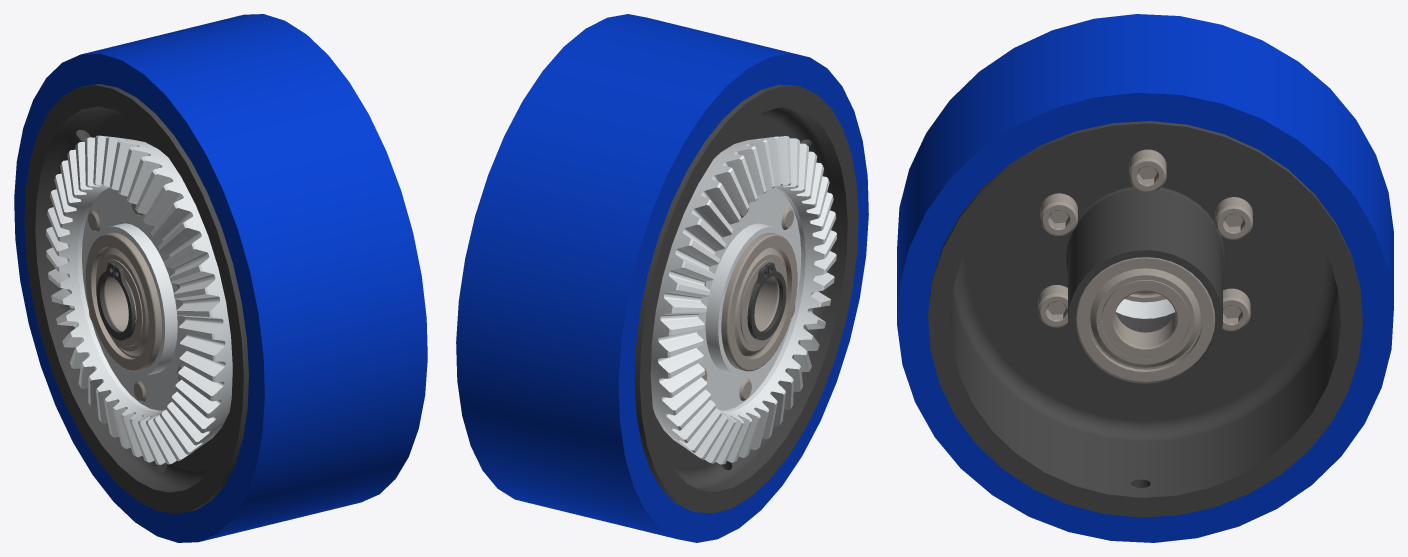
3 views of the same model, side by side, from view 1: azimuth 30°, elevation 25°; view 2: azimuth 150°, elevation 25°; view 3: azimuth 270°, elevation 25° (orthographic).
Parts seen in each view (by area): view 1: WCP-0364-008 Rev1, WCP-0233 Rev1, WCP-0365 Rev1, 217-3109_0_500_radial_bearing (×2), WCP-0229 Rev1; view 2: WCP-0364-008 Rev1, WCP-0233 Rev1, WCP-0365 Rev1, 217-3109_0_500_radial_bearing (×2), WCP-0229 Rev1; view 3: WCP-0365 Rev1, WCP-0364-008 Rev1, 217-3109_0_500_radial_bearing (×2), 10-32 SHCS - No Thread_0.375 (×5), WCP-0233 Rev1.
Part boxes in pixels (box(x1,y1,x2,y2)): WCP-0364-008 Rev1: box(14, 14, 427, 542); WCP-0233 Rev1: box(46, 135, 232, 464); WCP-0365 Rev1: box(24, 84, 248, 514); 217-3109_0_500_radial_bearing (×2): box(85, 232, 161, 371); WCP-0229 Rev1: box(96, 262, 135, 340); WCP-0364-008 Rev1: box(456, 14, 868, 542); WCP-0233 Rev1: box(650, 136, 836, 464); WCP-0365 Rev1: box(634, 84, 858, 513); 217-3109_0_500_radial_bearing (×2): box(721, 232, 797, 371); WCP-0229 Rev1: box(747, 262, 786, 340); WCP-0365 Rev1: box(928, 121, 1362, 517); WCP-0364-008 Rev1: box(897, 14, 1393, 542); 217-3109_0_500_radial_bearing (×2): box(1075, 257, 1215, 382); 10-32 SHCS - No Thread_0.375 (×5): box(1038, 149, 1252, 331); WCP-0233 Rev1: box(1115, 299, 1175, 318).
Size of the model in its own units: 0.0452 by 0.1015 by 0.1015.
